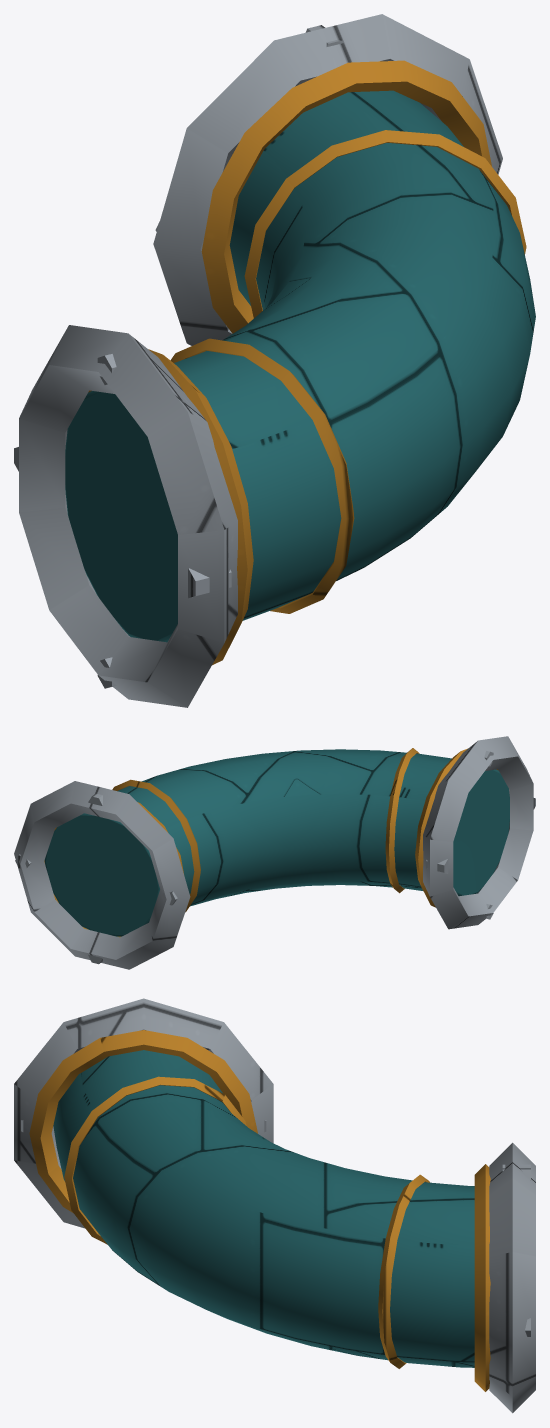
File: pressure_pipe_elbow_90_lod1.glb
3 renders of one model, top to bottom at view 1: azimuth 30°, elevation 25°; view 2: azimuth 150°, elevation 25°; view 3: azimuth 270°, elevation 25°, orthographic. The views are drawn at different scales.
Visible parts, largest first — view 1: LOD1_Armor, LOD1_BrushedMetal, LOD1_Livery; view 2: LOD1_Armor, LOD1_BrushedMetal, LOD1_Livery; view 3: LOD1_Armor, LOD1_BrushedMetal, LOD1_Livery.
Part boxes in pixels (bbox=[...]): LOD1_Armor: bbox=[65, 90, 535, 642]; LOD1_BrushedMetal: bbox=[14, 14, 502, 707]; LOD1_Livery: bbox=[88, 60, 526, 665]; LOD1_Armor: bbox=[44, 749, 509, 936]; LOD1_BrushedMetal: bbox=[14, 736, 535, 969]; LOD1_Livery: bbox=[44, 748, 498, 937]; LOD1_Armor: bbox=[53, 1050, 474, 1367]; LOD1_BrushedMetal: bbox=[14, 998, 535, 1413]; LOD1_Livery: bbox=[29, 1030, 490, 1391].
Size of the model in its own units: 2.15 by 1.11 by 2.12.
3 materials, 3 textured.
